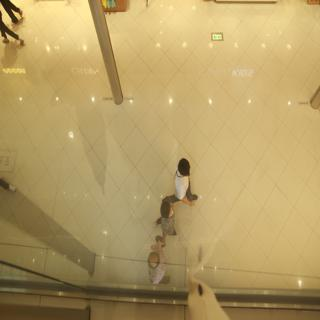person: (139, 244, 172, 286), (171, 155, 199, 202), (154, 194, 182, 241)
